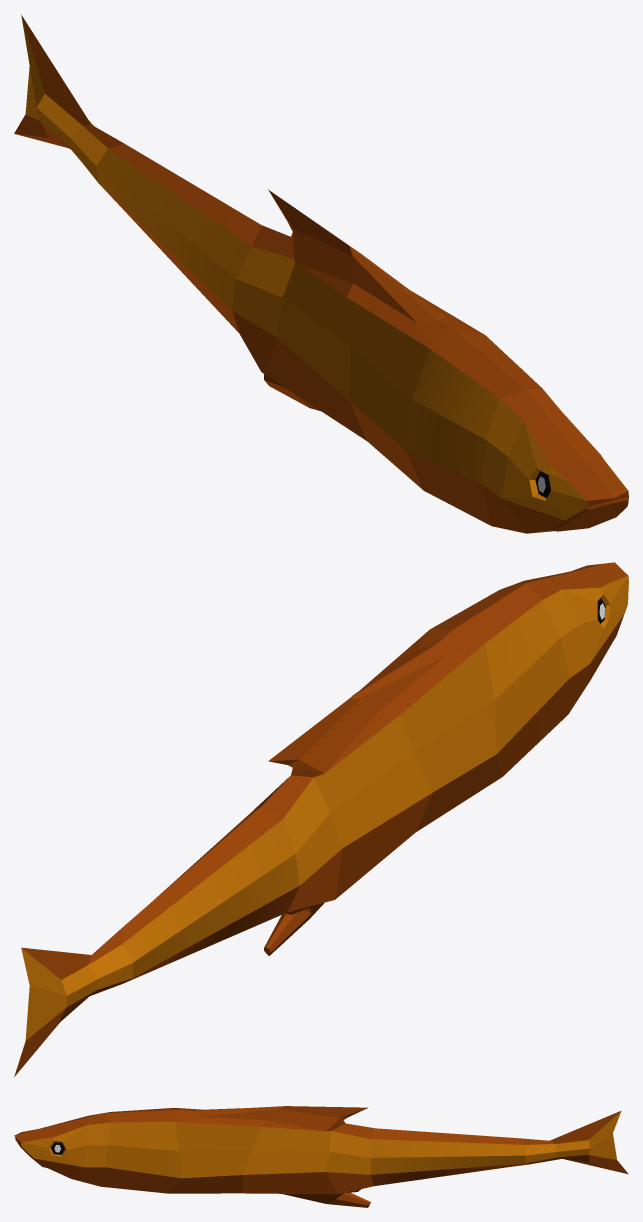
The model's file is Fish-3d.fbx.
3 views of the same model, one above another, from view 1: azimuth 30°, elevation 25°; view 2: azimuth 150°, elevation 25°; view 3: azimuth 270°, elevation 25° (orthographic). The views are drawn at different scales.
Visible parts, largest first — view 1: Fish-3d; view 2: Fish-3d; view 3: Fish-3d.
Boxes of the visible parts, bbox=[...] form: Fish-3d: bbox=[14, 15, 628, 533]; Fish-3d: bbox=[14, 562, 628, 1076]; Fish-3d: bbox=[14, 1106, 628, 1207].
Bounding box in the file's own units: 0.0762 × 0.1587 × 0.868.
